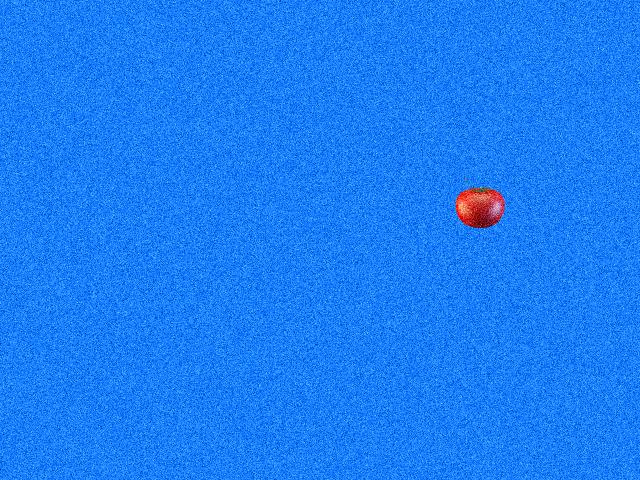tomato: (456, 188, 505, 228)
